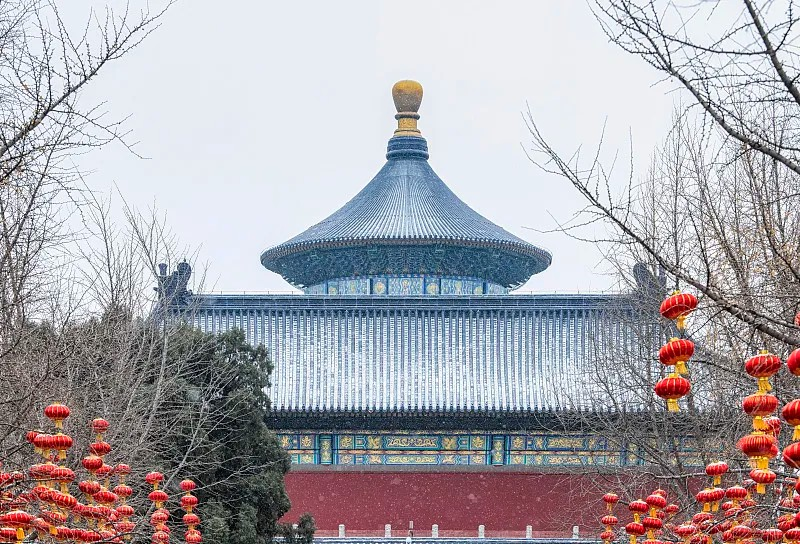Heaven: (260, 80, 552, 294)
